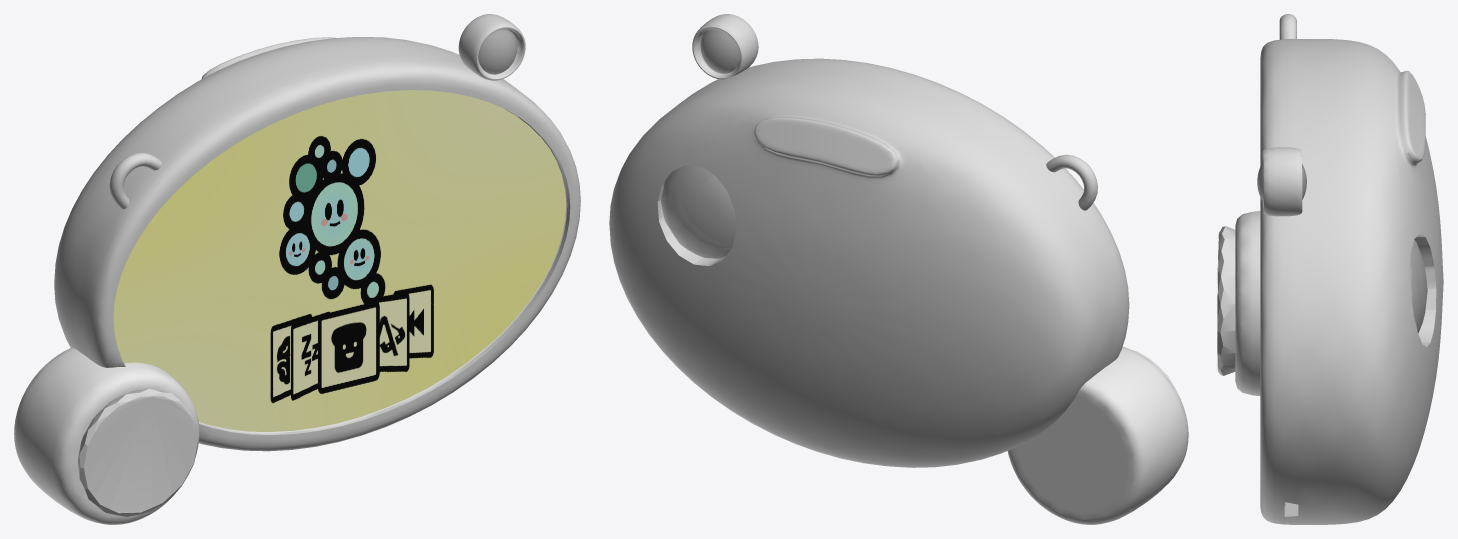
The model's file is Tamagotchi.glb.
The picture shows the model from 3 angles, left to right: view 1: azimuth 30°, elevation 25°; view 2: azimuth 150°, elevation 25°; view 3: azimuth 270°, elevation 25°; orthographic projection. The views are drawn at different scales.
Visible parts, largest first — view 1: Disc.2, Sphere (×2), Disc.1 (×2), Disc, Cylinder; view 2: Sphere (×3), Disc, Cylinder (×2), Disc.1; view 3: Sphere (×3), Disc.1 (×2), Disc, Cylinder (×2).
Boxes of the visible parts, bbox=[...] form: Disc.2: bbox=[113, 90, 566, 432]; Sphere (×2): bbox=[54, 29, 580, 451]; Disc.1 (×2): bbox=[78, 14, 525, 516]; Disc: bbox=[14, 347, 199, 524]; Cylinder: bbox=[109, 152, 161, 209]; Sphere (×3): bbox=[609, 29, 1129, 467]; Disc: bbox=[1007, 346, 1188, 524]; Cylinder (×2): bbox=[657, 154, 1097, 266]; Disc.1: bbox=[692, 14, 758, 79]; Sphere (×3): bbox=[1257, 39, 1443, 524]; Disc.1 (×2): bbox=[1217, 147, 1302, 375]; Disc: bbox=[1235, 211, 1260, 395]; Cylinder (×2): bbox=[1279, 14, 1436, 347].
Size of the model in its own units: 0.0603 by 0.043 by 0.0199.
4 materials, 1 textured.
